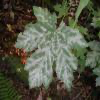Squash Powdery mildew leaf: (11, 6, 89, 91)
